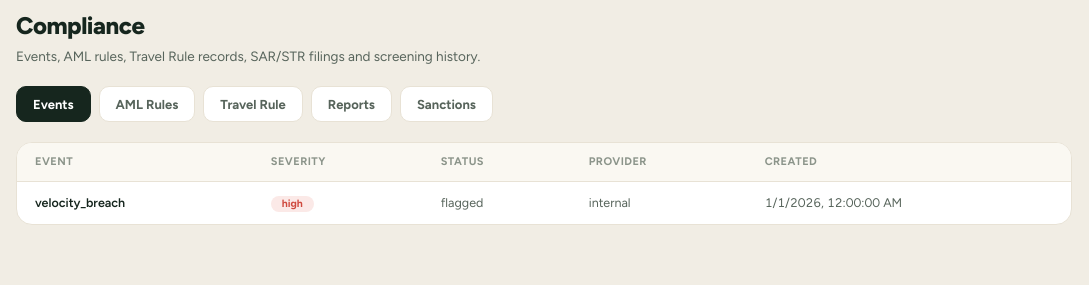
Test: CompliancePage › renders Travel Rule fiat equivalents in each record's OWN fiatCurrency
Click the tab "Travel Rule" at x=253, y=104, box [203, 86, 303, 122]
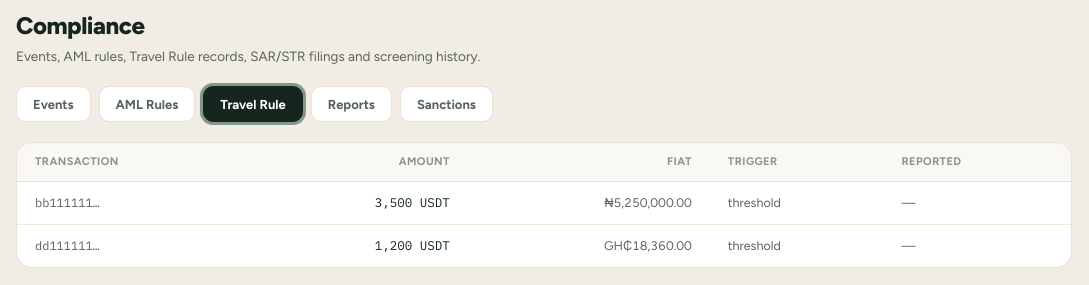
Now the text "₦5,250,000.00" is shown, box [468, 182, 710, 224]
Now the text "GH₵18,360.00" is shown, box [468, 224, 710, 267]
